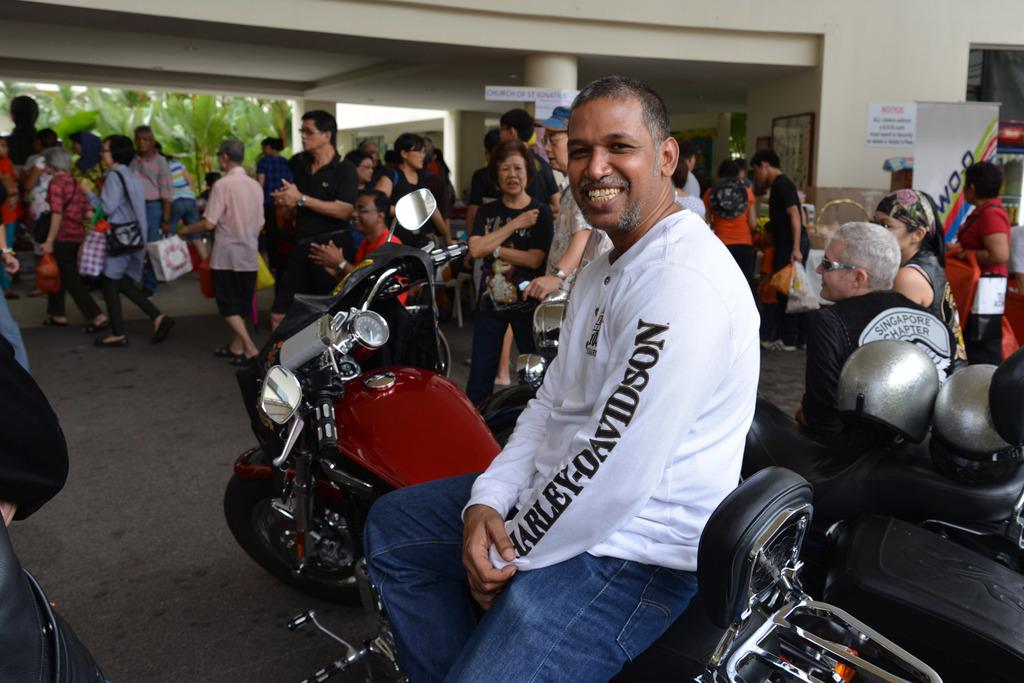helmet: (837, 339, 939, 446), (934, 364, 1023, 462)
nohelmet: (566, 74, 680, 234), (814, 221, 902, 305), (535, 105, 589, 173), (488, 139, 537, 198), (961, 160, 1004, 209), (350, 189, 391, 237), (299, 109, 338, 155), (498, 108, 536, 148), (98, 134, 135, 171), (393, 132, 427, 172), (749, 147, 782, 185), (343, 149, 374, 185), (216, 138, 245, 175), (41, 146, 74, 178), (134, 126, 156, 156), (260, 136, 285, 160)
